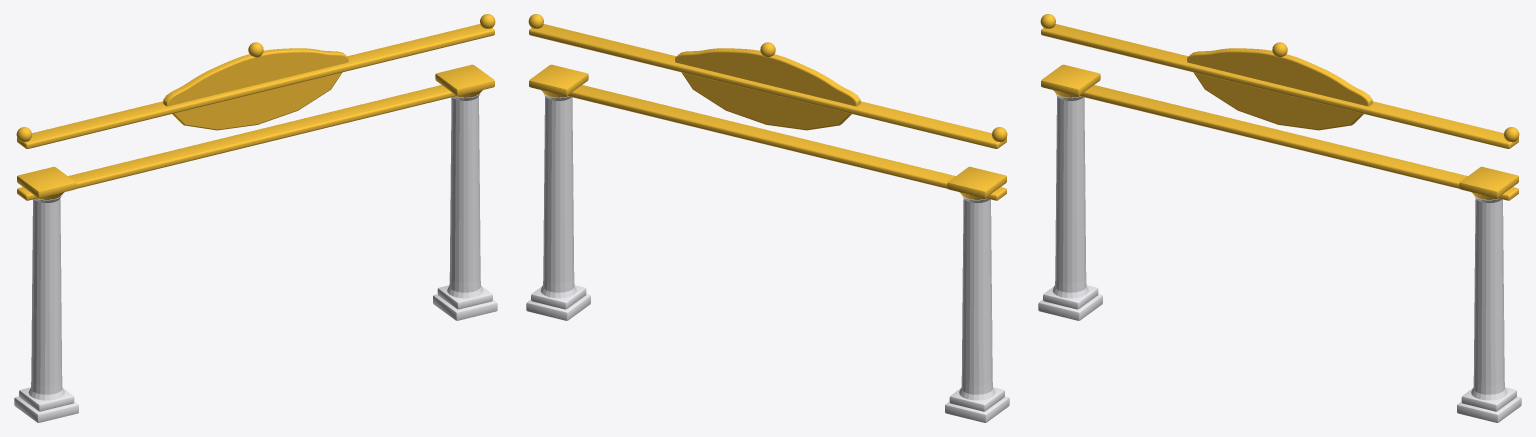
File: PropArch.fbx
3 views of the same model, side by side, from view 1: azimuth 30°, elevation 25°; view 2: azimuth 150°, elevation 25°; view 3: azimuth 330°, elevation 25° (orthographic).
Visible parts, largest first — view 1: Gold, Marble; view 2: Gold, Marble; view 3: Gold, Marble.
Boxes of the visible parts, <box> form: Gold: <box>16,14,495,200</box>; Marble: <box>14,92,497,422</box>; Gold: <box>528,14,1007,200</box>; Marble: <box>526,92,1009,422</box>; Gold: <box>1040,14,1519,200</box>; Marble: <box>1038,92,1521,422</box>.
Bounding box in the file's own units: 3190 × 2020 × 280.
